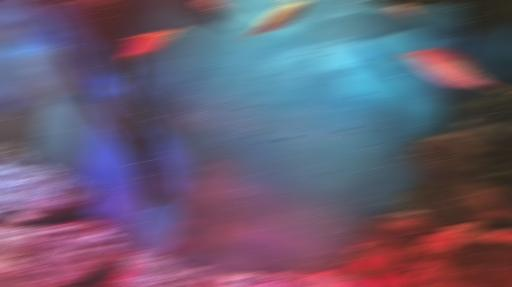Fish: (404, 50, 507, 92), (244, 0, 309, 39), (121, 29, 184, 62), (385, 3, 426, 22), (205, 0, 240, 17), (355, 258, 380, 279), (373, 272, 398, 286), (202, 272, 215, 286), (346, 279, 363, 286), (0, 0, 20, 4)
